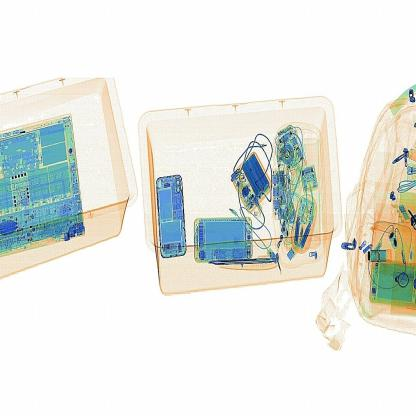pliers: (204, 256, 281, 272)
